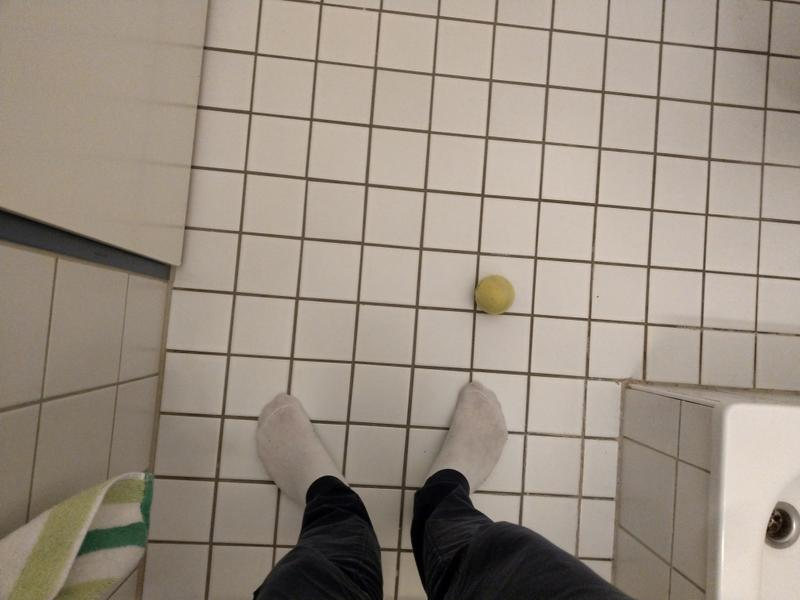Tennisball: (471, 273, 518, 320)
